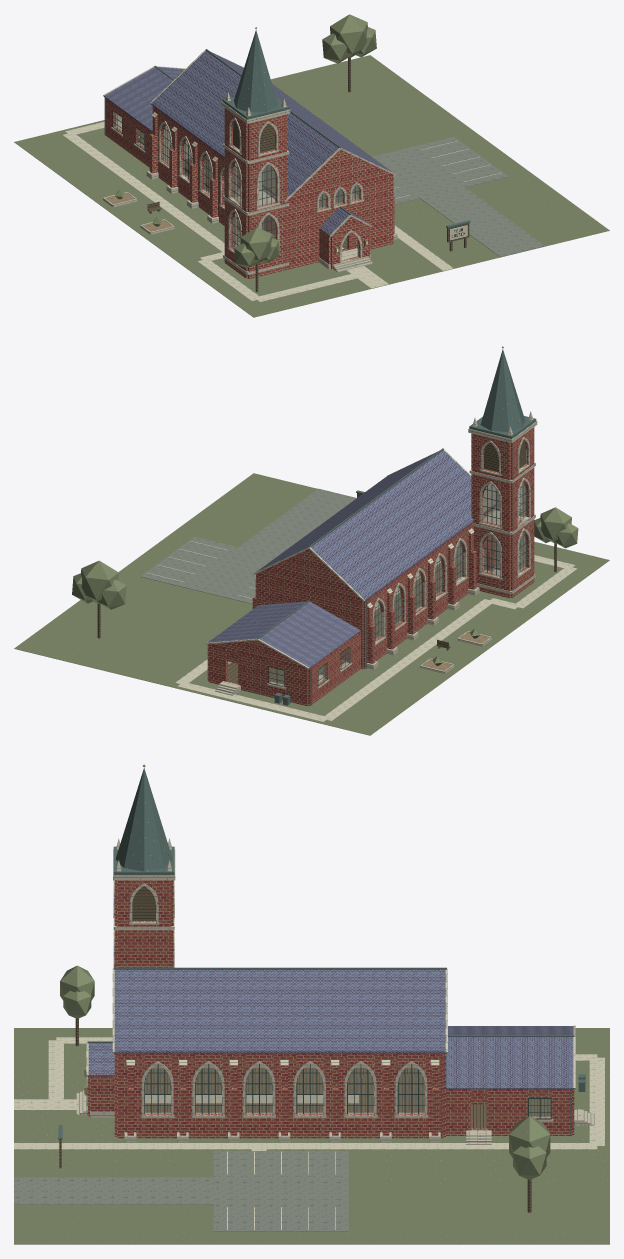
File: brick-church.glb
3 renders of one model, top to bottom at view 1: azimuth 30°, elevation 25°; view 2: azimuth 150°, elevation 25°; view 3: azimuth 270°, elevation 25°, orthographic. The views are drawn at different scales.
Parts seen in each view (by area): view 1: lot__ground_grass, nave__wall_brick, nave__roof_slate, lot__ground_paving, corner_steeple__wall_brick, paths__ground_paving, nave__wall_stone, corner_steeple__wall_stone, corner_steeple__detail_metal, parish_hall__roof_slate, church_tree_1__ground_grass, parish_hall__wall_brick (+5 smaller); view 2: lot__ground_grass, nave__roof_slate, nave__wall_brick, lot__ground_paving, corner_steeple__wall_brick, parish_hall__wall_brick, parish_hall__roof_slate, paths__ground_paving, corner_steeple__wall_stone, nave__wall_stone, corner_steeple__detail_metal, church_tree_1__ground_grass (+7 smaller); view 3: lot__ground_grass, nave__roof_slate, nave__wall_brick, lot__ground_paving, parish_hall__roof_slate, nave__glass_windows, paths__ground_paving, nave__wall_stone, nave__detail_wood, parish_hall__wall_brick, corner_steeple__wall_brick, corner_steeple__detail_metal (+8 smaller).
Part boxes in pixels (<box>): lot__ground_grass: <box>14,55,609,317</box>; nave__wall_brick: <box>149,106,394,269</box>; nave__roof_slate: <box>151,51,393,236</box>; lot__ground_paving: <box>353,137,544,257</box>; corner_steeple__wall_brick: <box>224,108,287,278</box>; paths__ground_paving: <box>63,121,453,301</box>; nave__wall_stone: <box>146,50,397,272</box>; corner_steeple__wall_stone: <box>221,92,290,274</box>; corner_steeple__detail_metal: <box>222,30,289,119</box>; parish_hall__roof_slate: <box>104,67,184,131</box>; church_tree_1__ground_grass: <box>322,14,376,63</box>; parish_hall__wall_brick: <box>105,98,152,167</box>; lot__ground_grass: <box>14,473,609,735</box>; nave__roof_slate: <box>256,450,495,601</box>; nave__wall_brick: <box>252,506,495,669</box>; lot__ground_paving: <box>140,488,356,604</box>; corner_steeple__wall_brick: <box>471,427,534,598</box>; parish_hall__wall_brick: <box>207,631,360,706</box>; parish_hall__roof_slate: <box>208,601,360,668</box>; paths__ground_paving: <box>175,551,577,721</box>; corner_steeple__wall_stone: <box>468,411,537,594</box>; nave__wall_stone: <box>253,449,479,669</box>; corner_steeple__detail_metal: <box>469,349,536,438</box>; church_tree_1__ground_grass: <box>72,560,126,609</box>; lot__ground_grass: <box>14,1028,609,1244</box>; nave__roof_slate: <box>87,969,446,1076</box>; nave__wall_brick: <box>87,1051,445,1138</box>; lot__ground_paving: <box>14,1151,348,1231</box>; parish_hall__roof_slate: <box>446,1026,574,1089</box>; nave__glass_windows: <box>144,1064,424,1113</box>; paths__ground_paving: <box>14,1037,604,1150</box>; nave__wall_stone: <box>76,968,447,1142</box>; nave__detail_wood: <box>145,1068,424,1112</box>; parish_hall__wall_brick: <box>446,1089,574,1135</box>; corner_steeple__wall_brick: <box>114,880,173,967</box>; corner_steeple__detail_metal: <box>113,768,174,875</box>.
Size of what is drawn, in the model's own units: 46.95 by 30.11 by 54.71.
Materials: 12 (12 with a texture image).
